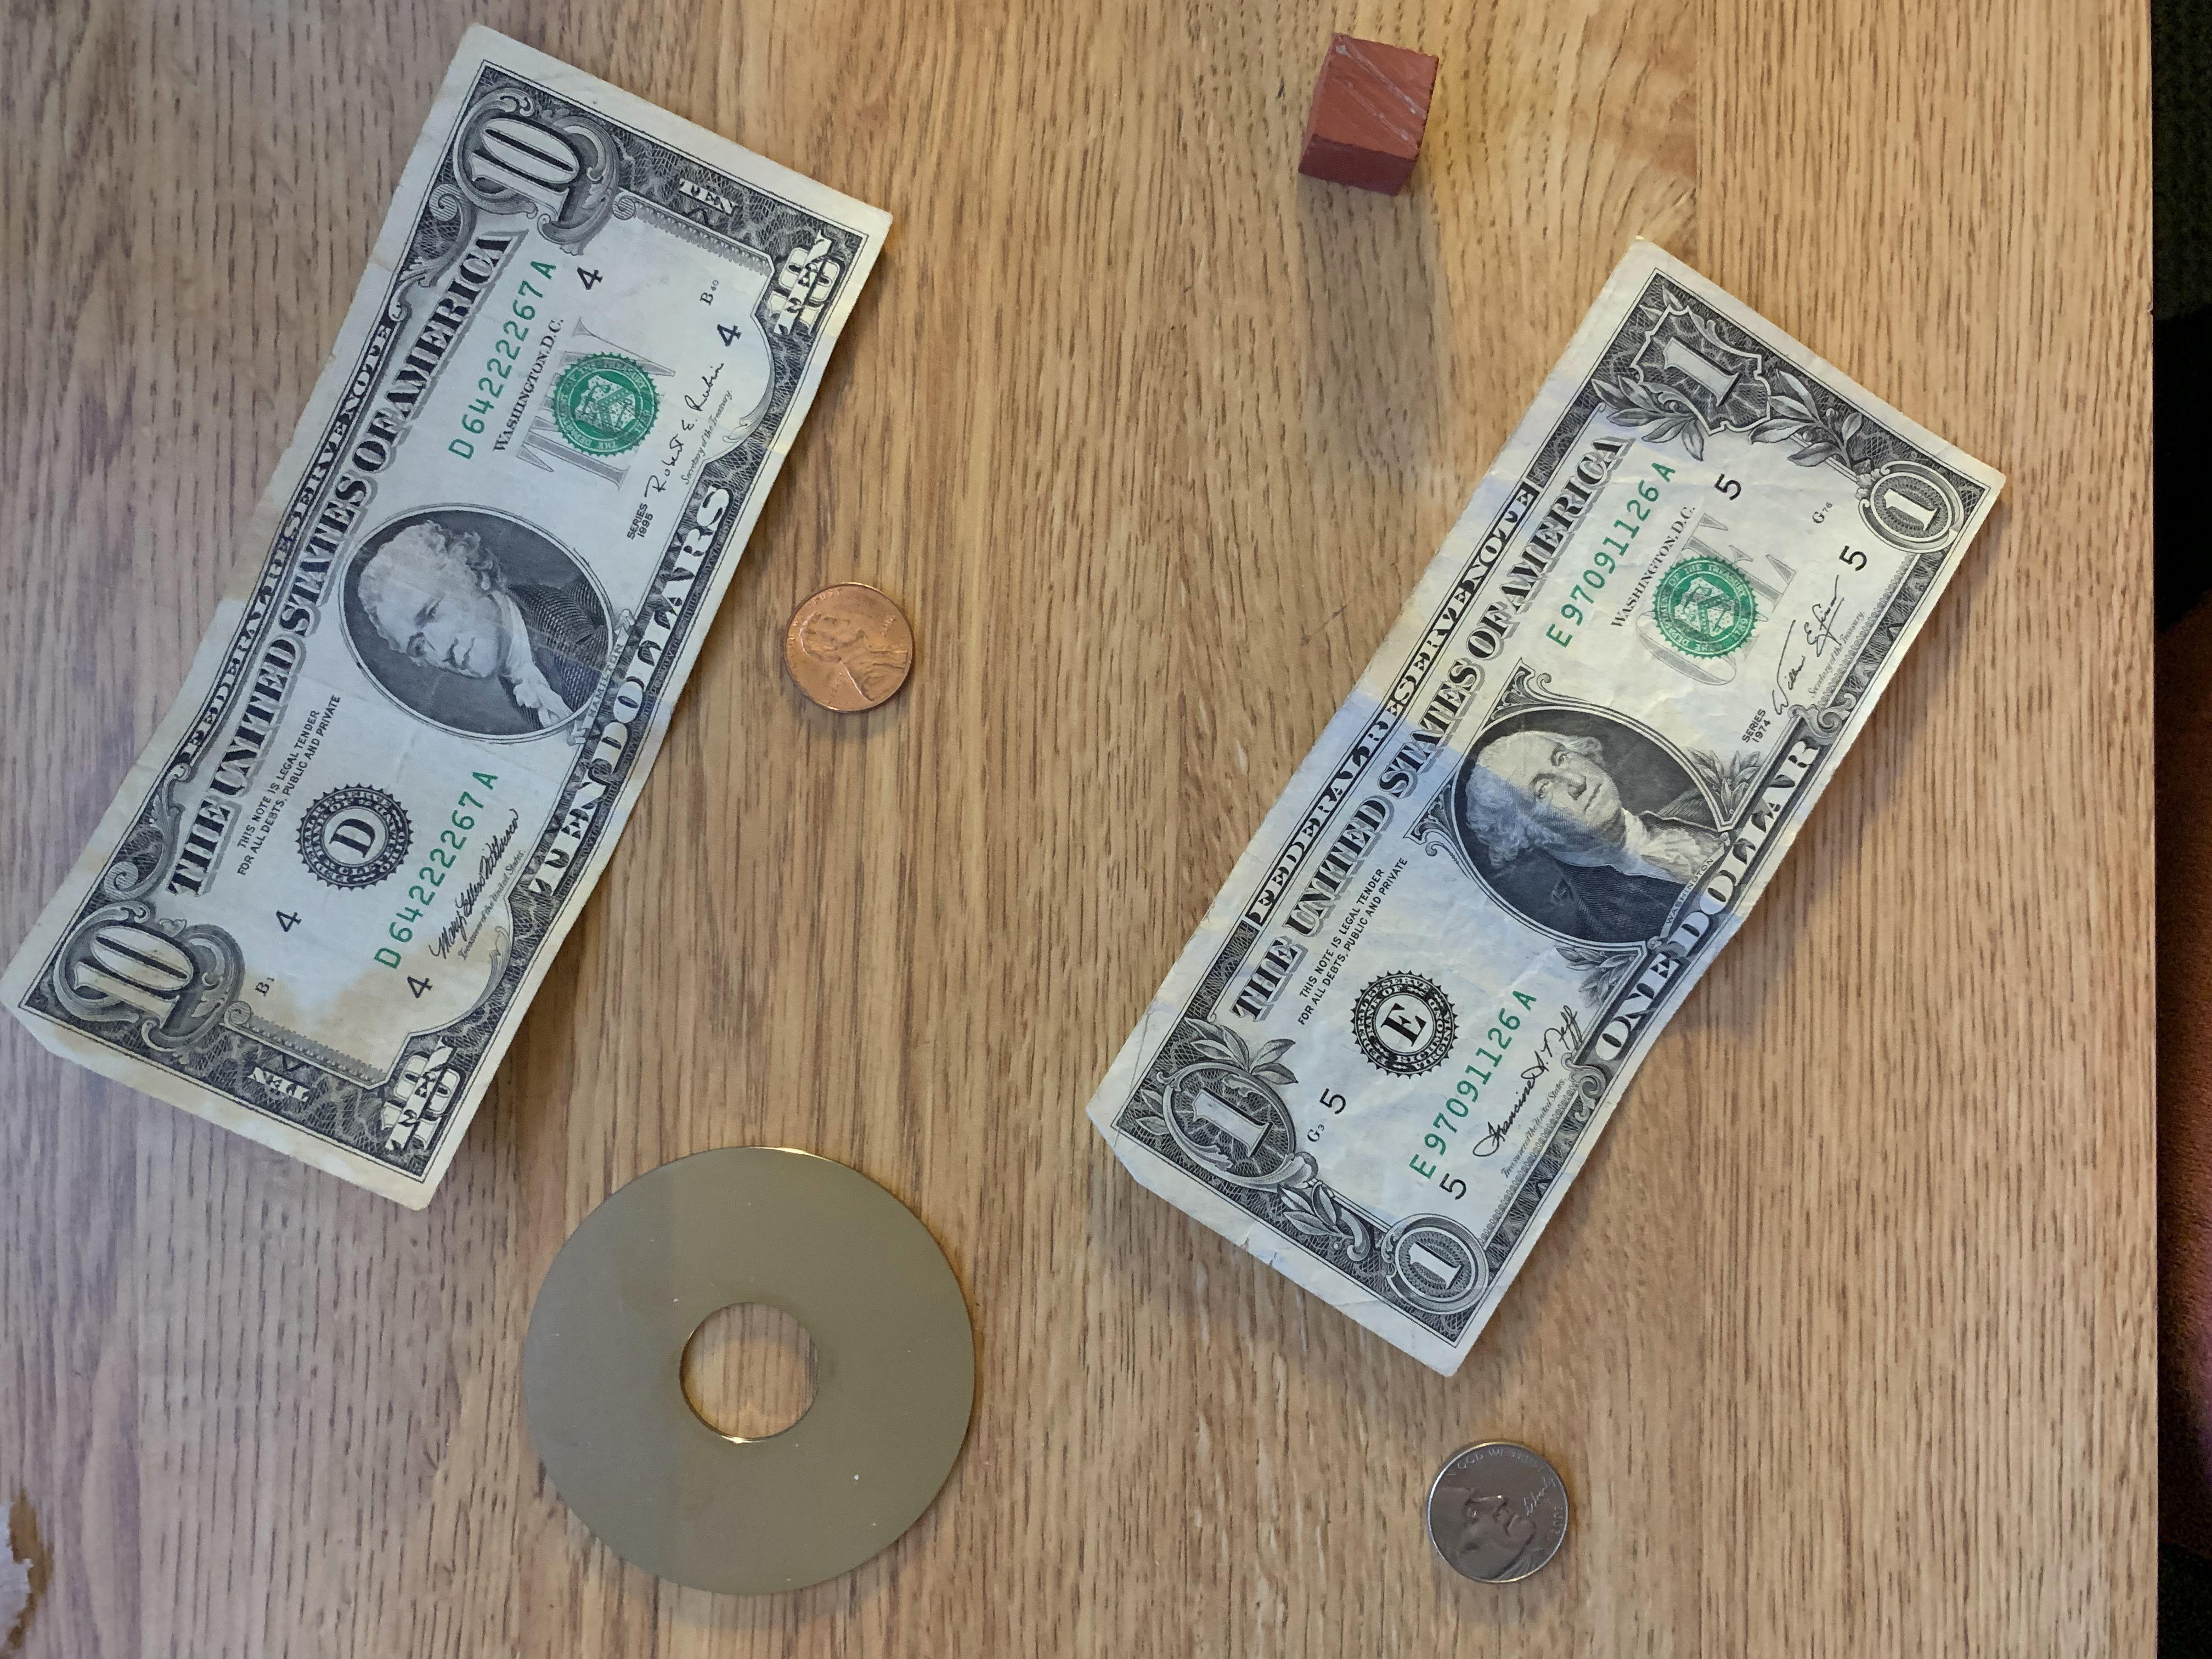Nickel: (1421, 1434, 1573, 1591)
OneBill: (1073, 221, 2040, 1378)
Penny: (779, 575, 923, 718)
TenBill: (2, 10, 894, 1208)
